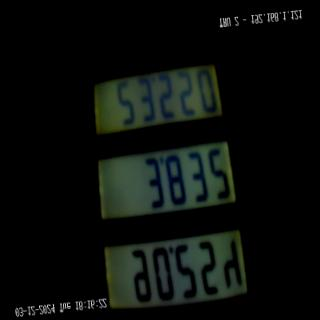screen: (77, 23, 259, 320)
